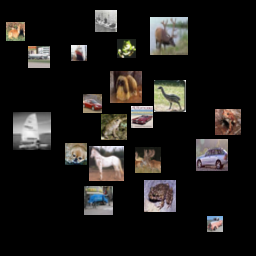airplane: (28, 46, 50, 68)
automobile: (196, 139, 228, 171), (131, 106, 153, 128), (83, 94, 102, 113), (207, 216, 223, 232)
bird: (154, 80, 186, 112)
deer: (150, 17, 188, 55), (135, 147, 161, 173), (6, 22, 25, 41)
dog: (110, 71, 142, 103), (65, 143, 87, 165)
frog: (144, 180, 176, 212), (101, 114, 127, 140), (215, 109, 241, 135), (117, 39, 136, 58)
ship: (13, 112, 51, 150), (95, 10, 117, 32), (71, 45, 87, 61)
